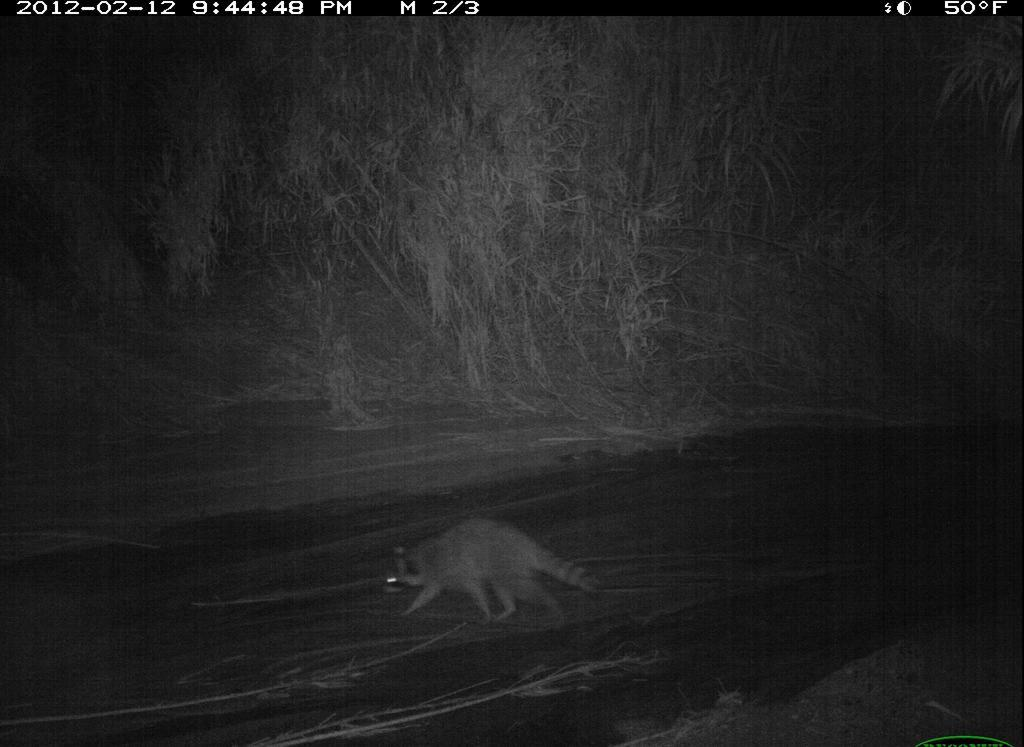raccoon: (378, 513, 605, 632)
